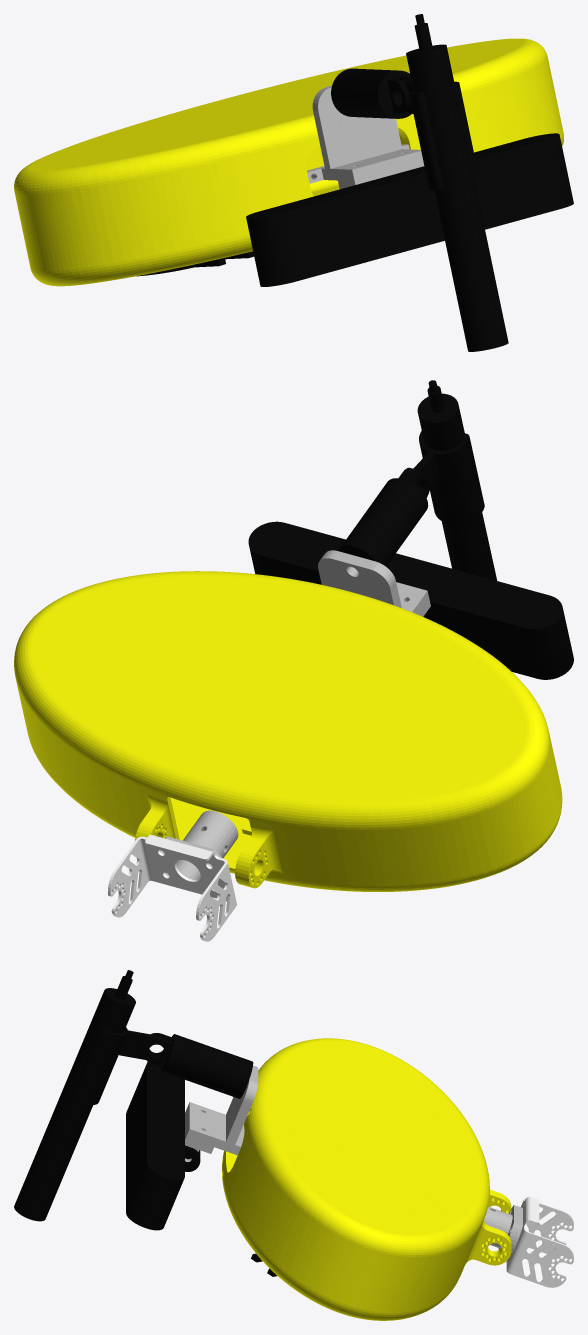
File: head_mini.dae
3 renders of one model, top to bottom at view 1: azimuth 30°, elevation 25°; view 2: azimuth 150°, elevation 25°; view 3: azimuth 270°, elevation 25°, orthographic. The views are drawn at different scales.
Visible parts, largest first — view 1: node; view 2: node; view 3: node.
Part boxes in pixels (box(x1,y1,x2,y2)): node: box(14, 14, 573, 351); node: box(14, 380, 573, 941); node: box(14, 970, 573, 1320).
Size of the model in its own units: 30.1 by 20.19 by 34.48.
Materials: 1 (1 with a texture image).
